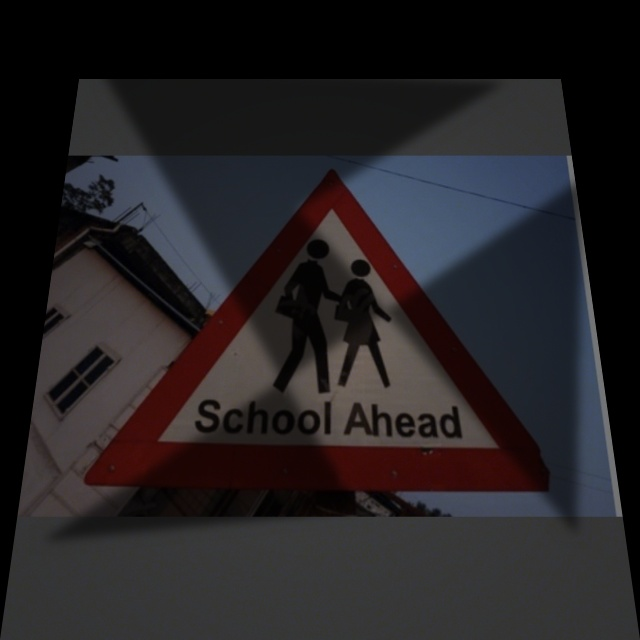School_Ahead: (135, 172, 531, 483)
